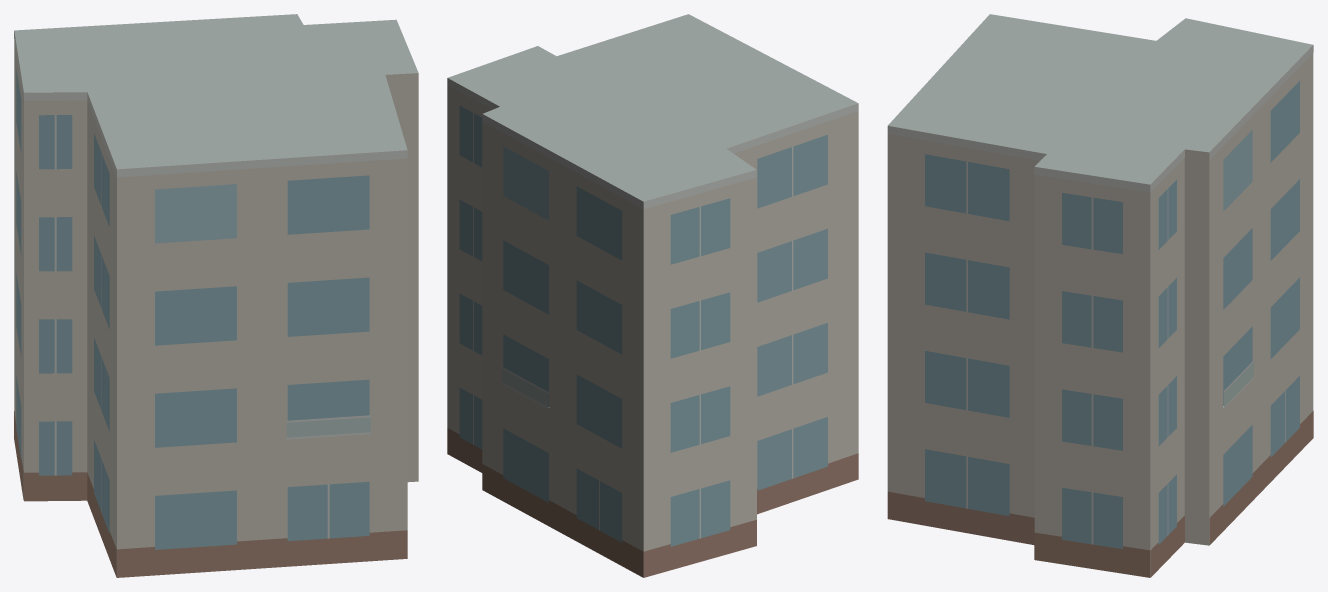
File: survey-upis-32574469.glb
The picture shows the model from 3 angles, left to right: view 1: azimuth 30°, elevation 25°; view 2: azimuth 150°, elevation 25°; view 3: azimuth 270°, elevation 25°; orthographic projection. The views are drawn at different scales.
Visible parts, largest first — view 1: survey-upis-32574469.tmp; view 2: survey-upis-32574469.tmp; view 3: survey-upis-32574469.tmp.
Part boxes in pixels (x1=…): survey-upis-32574469.tmp: x1=14, y1=14, x2=418, y2=577; survey-upis-32574469.tmp: x1=447, y1=14, x2=858, y2=577; survey-upis-32574469.tmp: x1=887, y1=14, x2=1313, y2=577.
Size of the model in its own units: 11.36 by 12.2 by 11.98.
